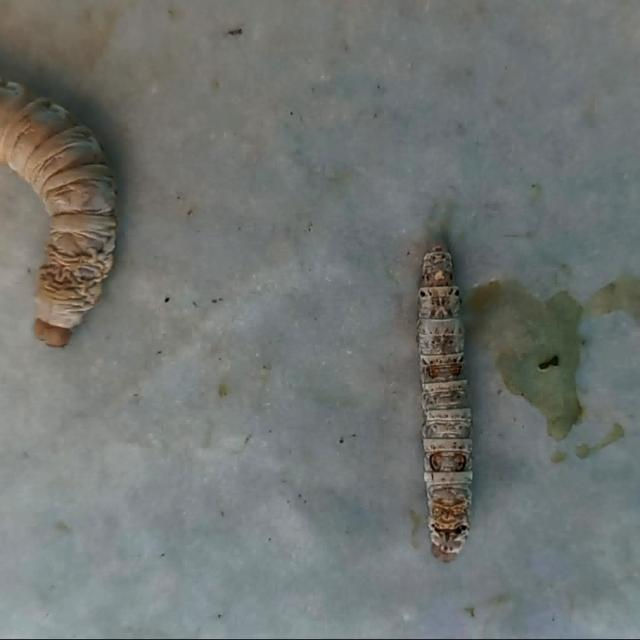Grasserie: (373, 203, 550, 574)
